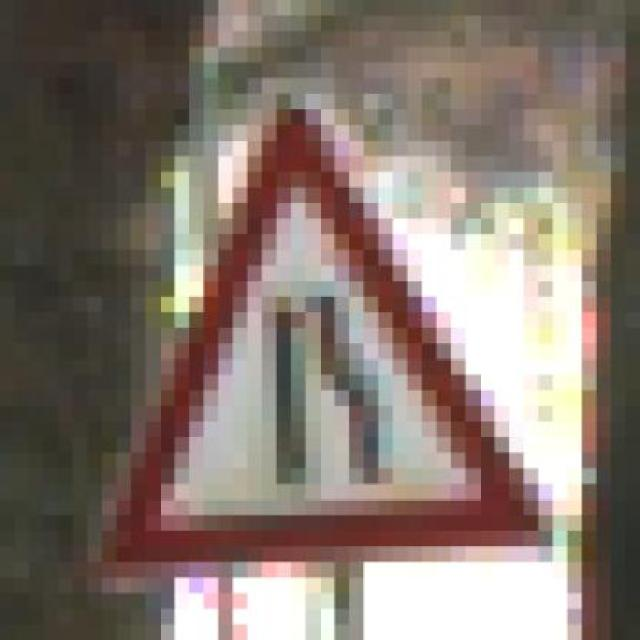-Road narrows on right: (72, 93, 568, 578)
